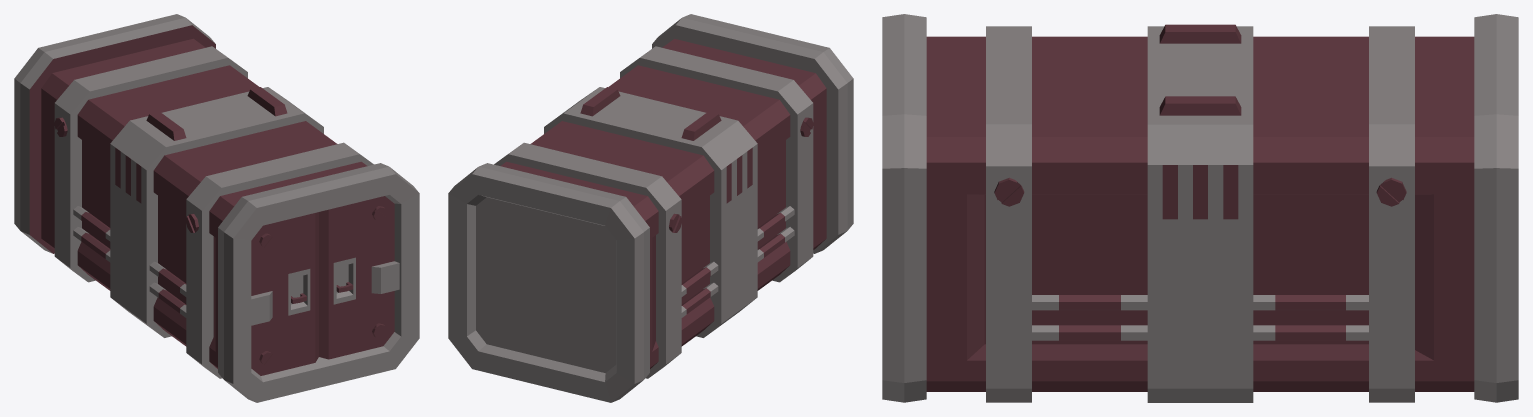
The model's file is scifi-cargo-big.fbx.
The picture shows the model from 3 angles, left to right: view 1: azimuth 30°, elevation 25°; view 2: azimuth 150°, elevation 25°; view 3: azimuth 270°, elevation 25°; orthographic projection. The views are drawn at different scales.
Parts seen in each view (by area): view 1: scifi-cargo-big; view 2: scifi-cargo-big; view 3: scifi-cargo-big.
Part boxes in pixels (x1,y1,x2,y2): scifi-cargo-big: (14, 14, 419, 402); scifi-cargo-big: (448, 14, 853, 402); scifi-cargo-big: (882, 14, 1518, 402).
Size of the model in its own units: 3 by 3 by 6.
